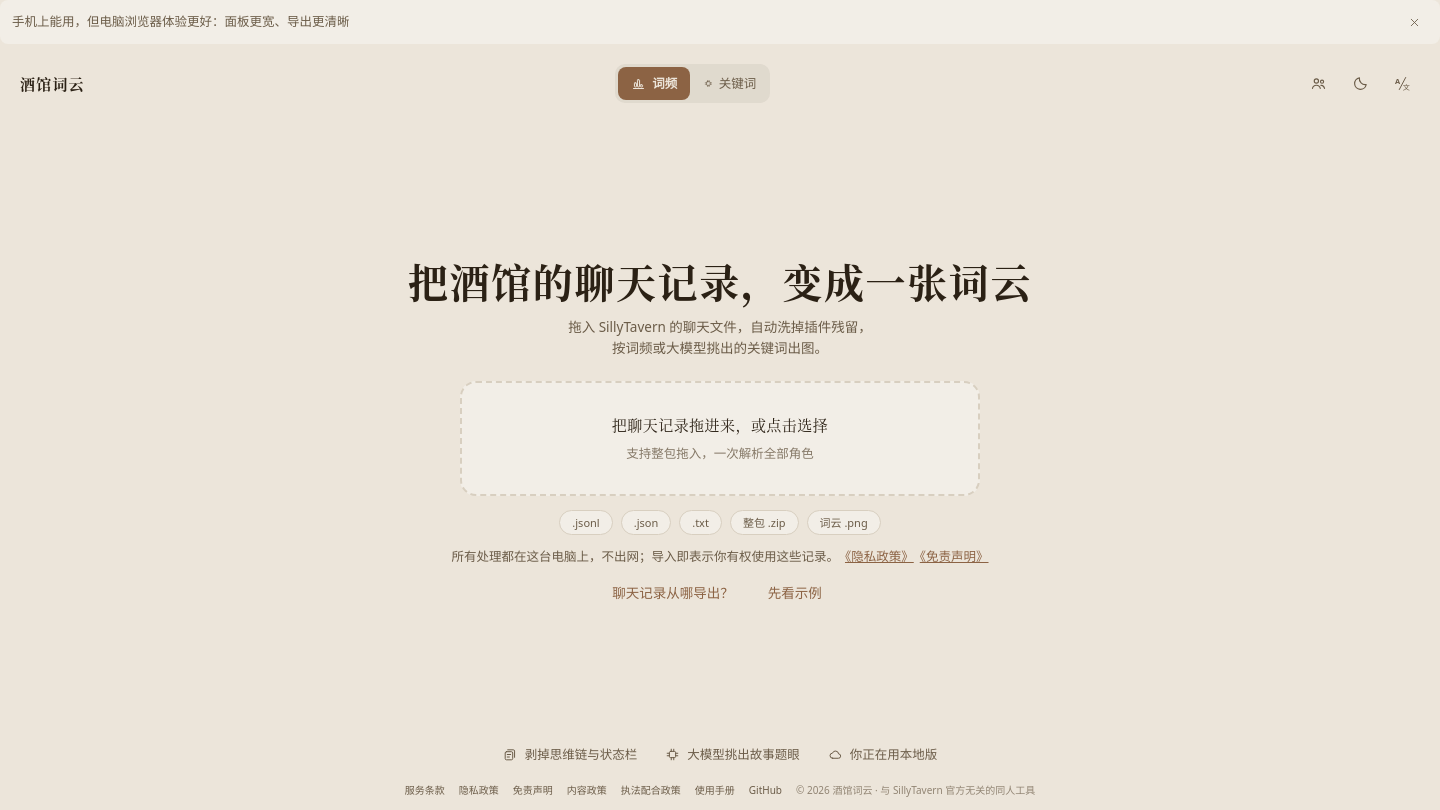
MobileHint › dismissing hides it and the choice sticks across remounts
The width and height of the screenshot is (1440, 810).
Expected: the text "手机上能用，但电脑浏览器体验更好：面板更宽、导出更清晰" is shown, left=12, top=13, right=350, bottom=30
Click the button titled "关闭提示" at x=1414, y=22, box left=1400, top=8, right=1428, bottom=36
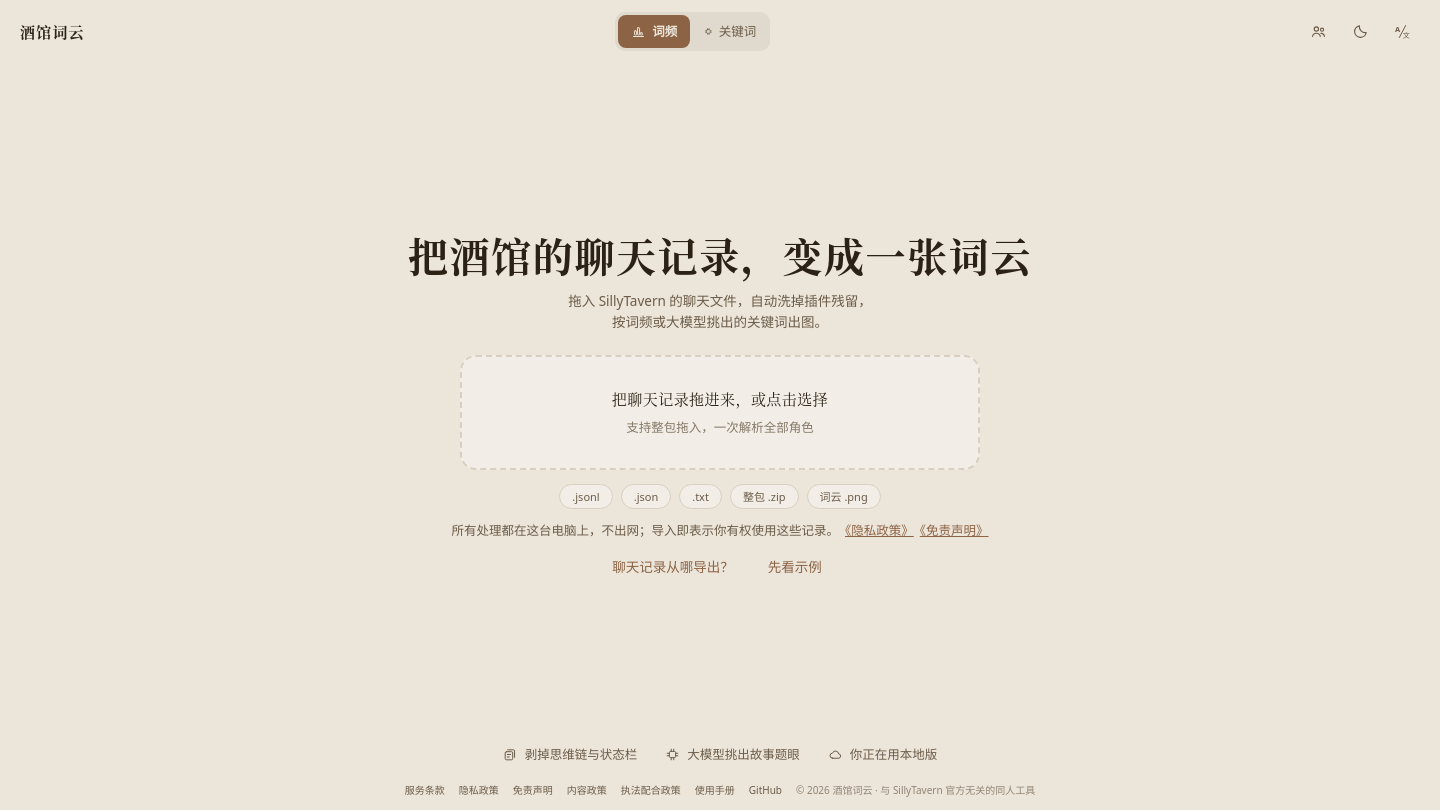
Expected: the text "手机上能用，但电脑浏览器体验更好：面板更宽、导出更清晰" is gone
